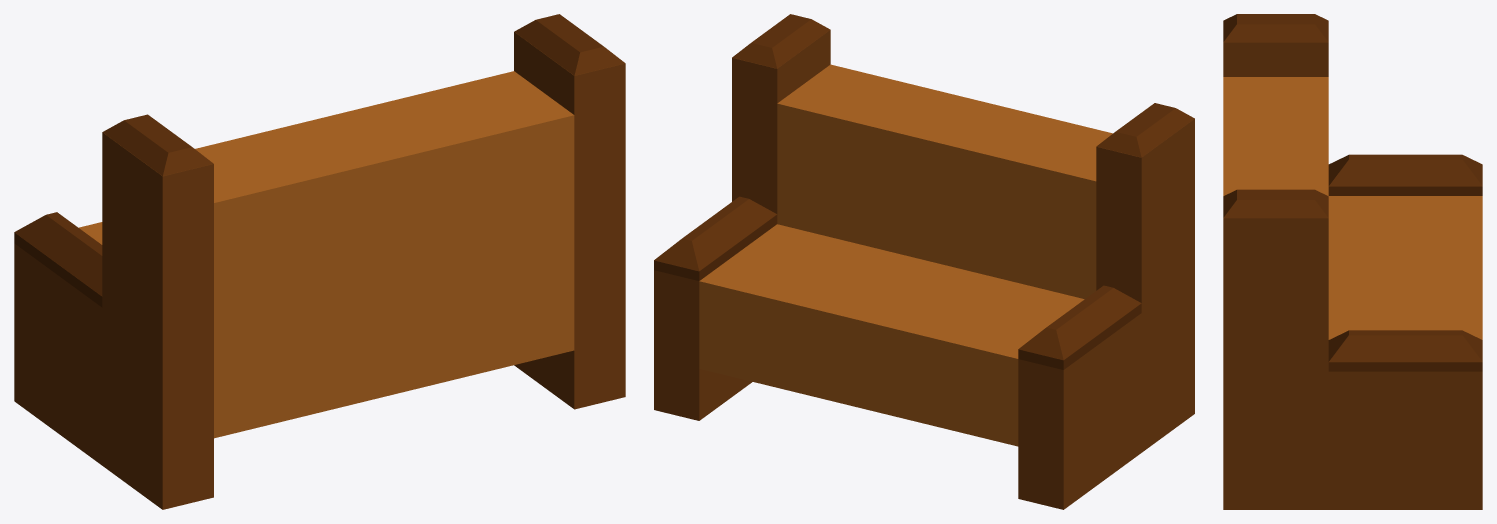
Rendered from Updated Tutorial Stool.fbx.
3 views of the same model, side by side, from view 1: azimuth 30°, elevation 25°; view 2: azimuth 150°, elevation 25°; view 3: azimuth 270°, elevation 25° (orthographic). The views are drawn at different scales.
Visible parts, largest first — view 1: Stool, Side 3, Side 1, Side 2; view 2: Stool, Side 4, Side 3, Side 1, Side 2; view 3: Stool, Side 3, Side 4, Side 1, Side 2.
Part boxes in pixels (<box>): Stool: <box>14,32,625,509</box>; Side 3: <box>14,212,102,295</box>; Side 1: <box>514,14,624,75</box>; Side 2: <box>102,114,213,175</box>; Stool: <box>654,30,1194,509</box>; Side 4: <box>654,196,776,271</box>; Side 3: <box>1018,285,1141,359</box>; Side 1: <box>732,14,830,68</box>; Side 2: <box>1096,103,1194,157</box>; Stool: <box>1223,42,1482,509</box>; Side 3: <box>1328,154,1482,186</box>; Side 4: <box>1328,330,1482,361</box>; Side 1: <box>1223,189,1328,218</box>; Side 2: <box>1223,14,1328,42</box>.
Size of the model in its own units: 183 by 132 by 102.
